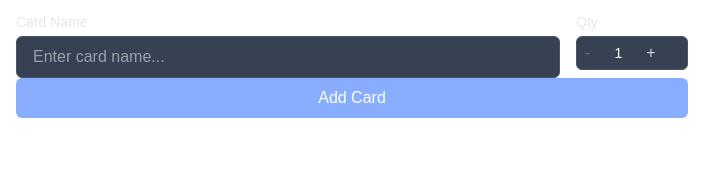
Scenario: CardInput › clears form after successful submission
Type "Test Card" into the field labelled "Card Name" at x=288, y=57, box [16,36,560,78]
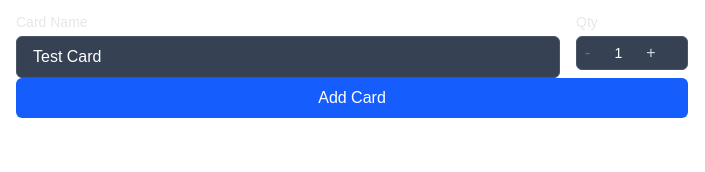
Replace the text in the number field labelled "Qty" with "3" at x=618, y=53, box [598,43,638,63]
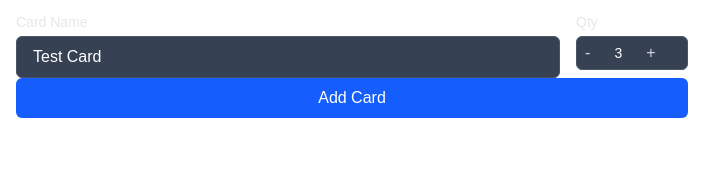
Click the button "Add Card" at x=352, y=98, box [16,78,688,118]
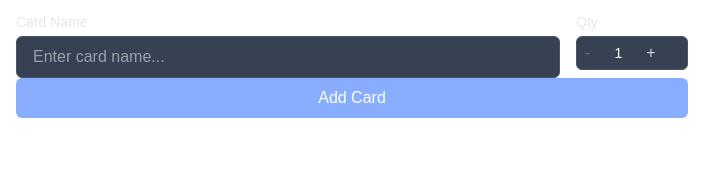
expect the field labelled "Card Name" is empty: met, box [16,36,560,78]
expect the number field labelled "Qty" holds "1": met, box [598,43,638,63]
